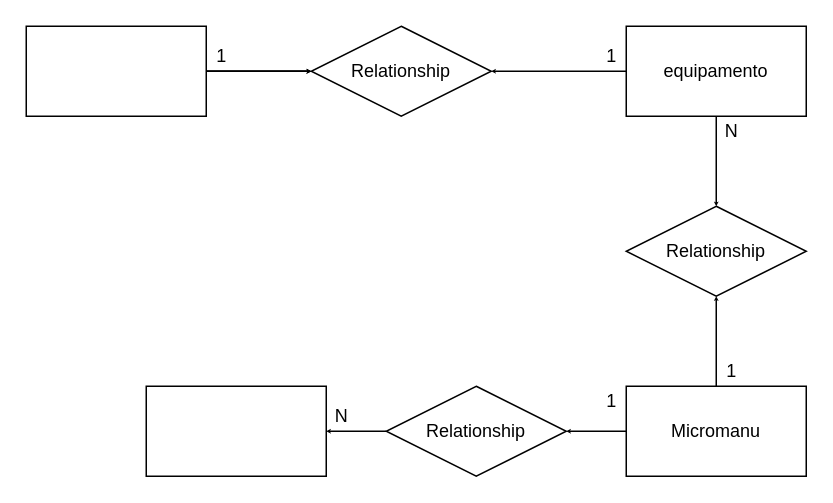
The diagram is 833 pixels wide and 503 high, and some of its shapes have lost their labels. The shapes that lost their labels are listed below. From the top down, each one's box as (x1, y1, x2, y2) in pixels, then its label:
(25, 25, 206, 116): cliente
(145, 385, 326, 476): colaborador
